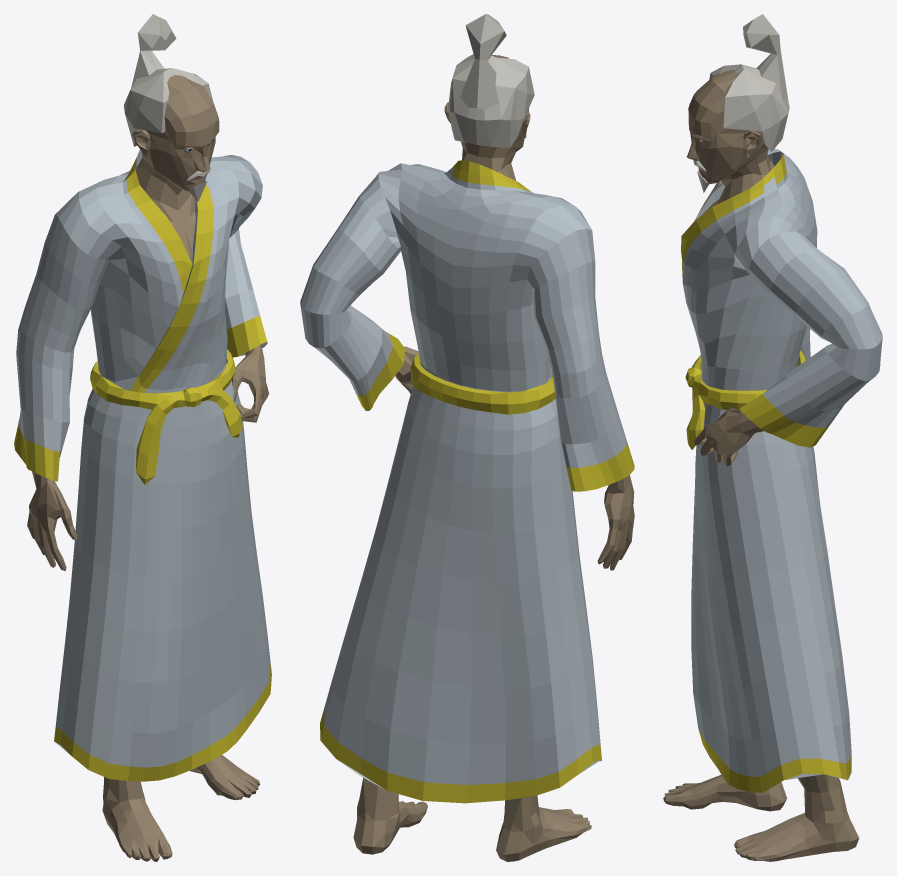
The model's file is master_static.glb.
3 renders of one model, left to right at view 1: azimuth 30°, elevation 25°; view 2: azimuth 150°, elevation 25°; view 3: azimuth 270°, elevation 25°, orthographic. The views are drawn at different scales.
Parts seen in each view (by area): view 1: m_mesh_master.028; view 2: m_mesh_master.028; view 3: m_mesh_master.028.
Part boxes in pixels (x1,y1,x2,y2): m_mesh_master.028: [14, 14, 271, 861]; m_mesh_master.028: [300, 14, 634, 861]; m_mesh_master.028: [663, 14, 882, 861].
Bounding box in the file's own units: 0.5939 × 1.74 × 0.4265.
1 material, 1 textured.
